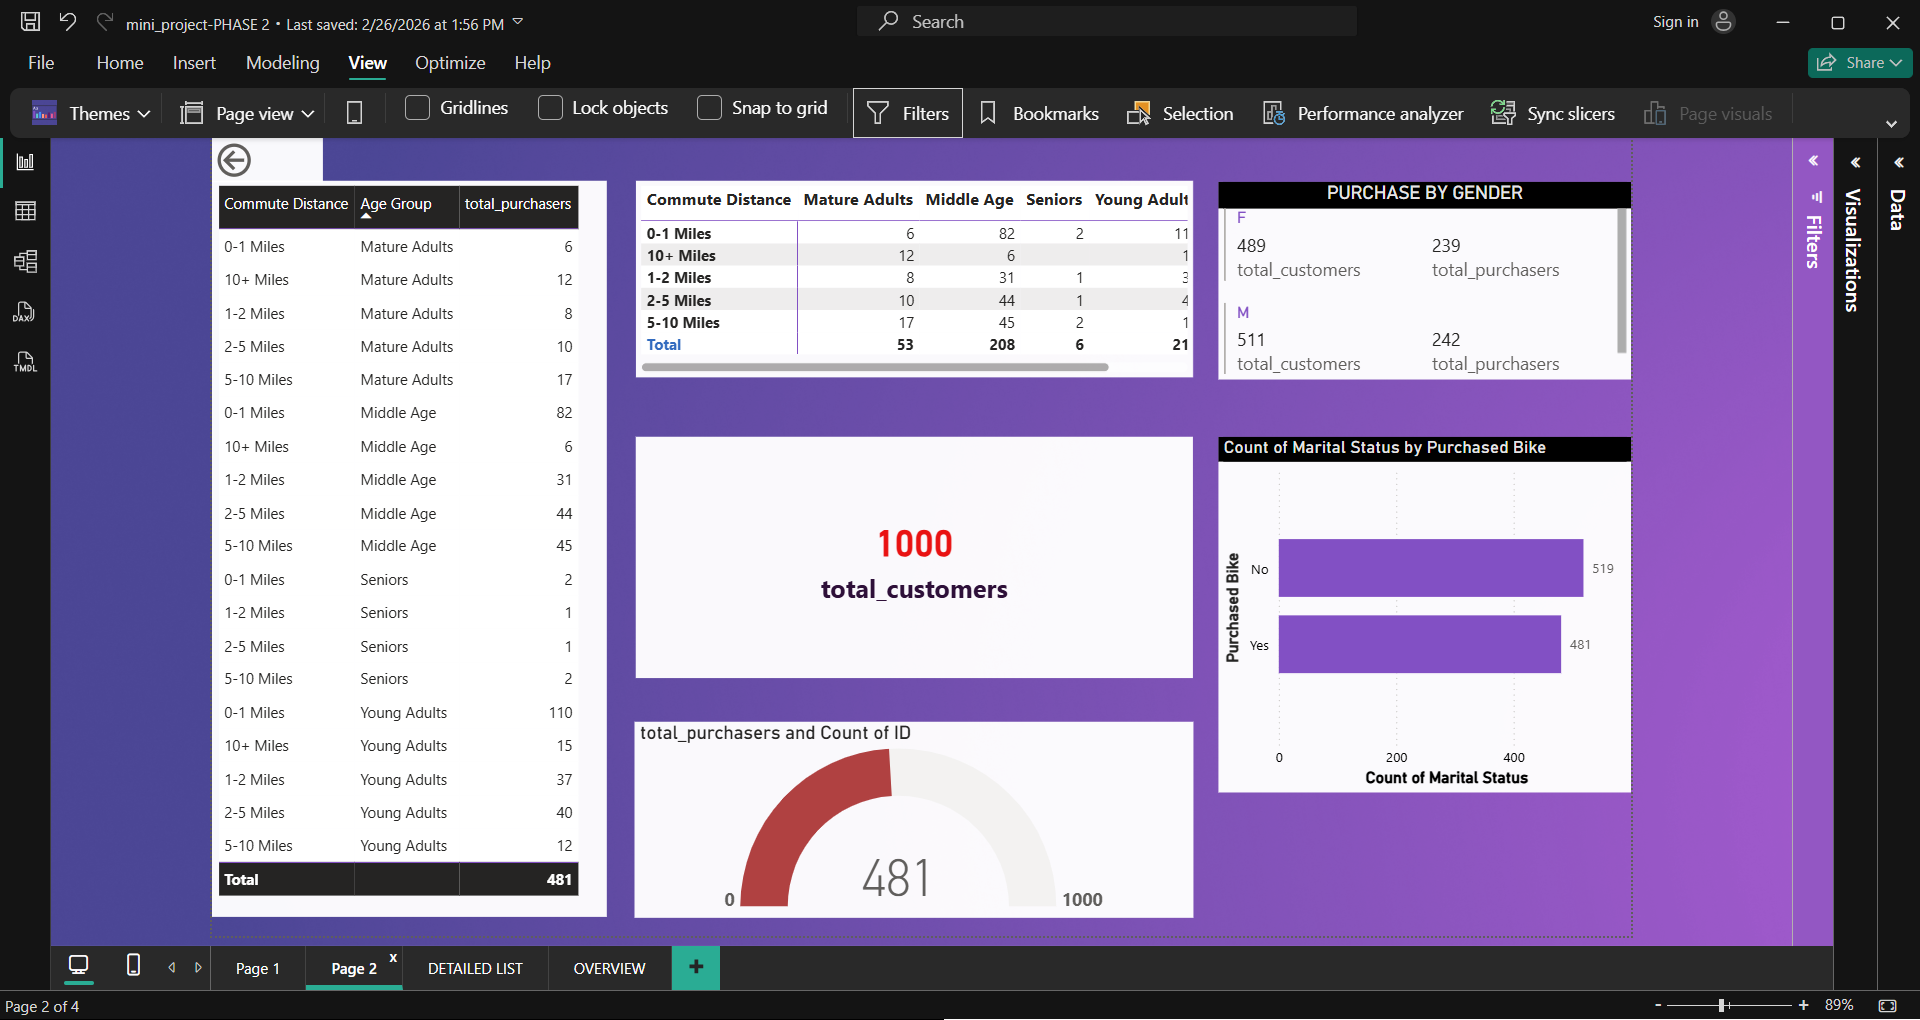

This screenshot's page, from the dashboard's own definition file:
{"tool":"powerbi","page":{"name":"Page 2","canvas":[1280,720],"ordinal":1},"visuals":[{"type":"tableEx","fields":{"Values":["bike_sales.Commute Distance","bike_sales.Age Group","bike_sales.total_purchasers"]},"box":[0,38.6,355.8,664.3],"z":0},{"type":"pivotTable","fields":{"Values":["bike_sales.total_purchasers"],"Rows":["bike_sales.Region Hierarchy.Region","bike_sales.Region Hierarchy.Income group","bike_sales.Region Hierarchy.Commute Distance"],"Columns":["bike_sales.Age Group"]},"box":[381.9,38.6,502.6,177.9],"z":1000},{"type":"card","fields":{"Values":["bike_sales.total_customers"]},"box":[381.9,269.9,502.6,217.7],"z":3000},{"type":"gauge","fields":{"MaxValue":["CountNonNull(bike_sales.ID)"],"Y":["bike_sales.total_purchasers"]},"box":[380.7,526.2,503.8,176.6],"z":5000},{"type":"barChart","fields":{"Category":["bike_sales.Purchased Bike"],"Y":["CountNonNull(bike_sales.Marital Status)"]},"box":[906.8,269.9,373.2,320.9],"z":6000},{"type":"actionButton","box":[0,0,100,40],"z":7000},{"type":"multiRowCard","title":"PURCHASE BY GENDER","fields":{"Values":["bike_sales.Gender","bike_sales.total_customers","bike_sales.total_purchasers"]},"box":[907,39,373,178],"z":8000}]}

Visuals, with their boxes on the page's 1280x720 design canvas (x1, y1, x2, y2). These are canvas units, not pixel positions in the 1920x1020 screenshot, which may show the page scaled, cropped or inside an application window:
tableEx - bike_sales.Commute Distance x bike_sales.Age Group: (left=0, top=39, right=356, bottom=703)
pivotTable - bike_sales.total_purchasers x bike_sales.Region Hierarchy.Region: (left=382, top=39, right=884, bottom=216)
card - bike_sales.total_customers: (left=382, top=270, right=884, bottom=488)
gauge - CountNonNull(bike_sales.ID) x bike_sales.total_purchasers: (left=381, top=526, right=884, bottom=703)
barChart - bike_sales.Purchased Bike x CountNonNull(bike_sales.Marital Status): (left=907, top=270, right=1280, bottom=591)
actionButton: (left=0, top=0, right=100, bottom=40)
"PURCHASE BY GENDER" multiRowCard: (left=907, top=39, right=1280, bottom=217)
